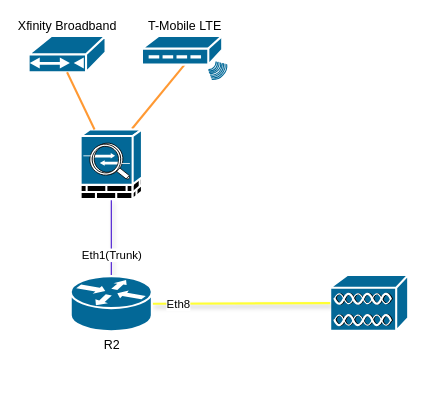
Some shapes in this 446 by 400 pixel diagram are drawn without their labels. The centre of each missing label's shape, as x and y in pixels:
"AP 2.4 Mhz SSID: La2uli 5 MHz SSID: La5uli" belongs at [369,303].
"Firewall Router with NIDS" belongs at [110,164].
